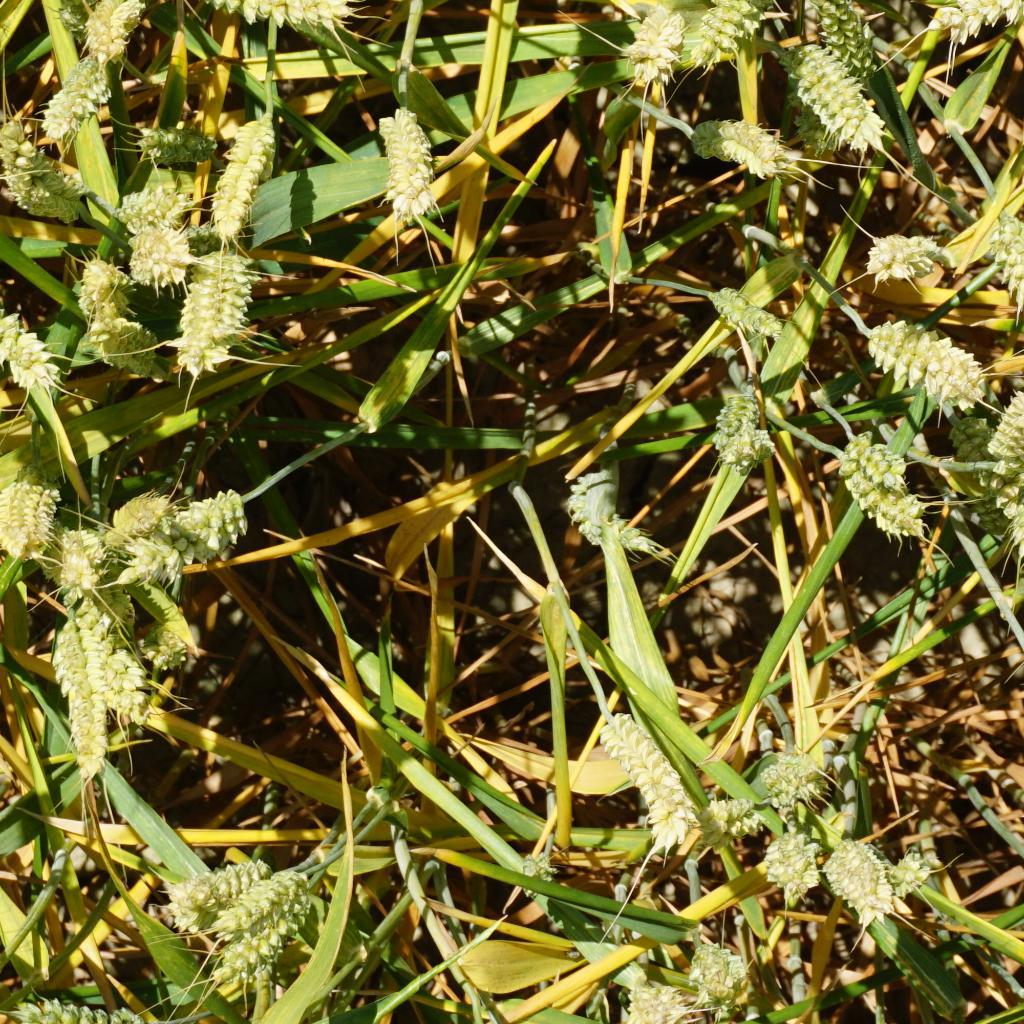0-0: (593, 706, 707, 862), (777, 40, 897, 161), (166, 249, 256, 387), (139, 485, 257, 579), (861, 327, 988, 414), (52, 615, 119, 779), (825, 445, 927, 547), (559, 470, 671, 562), (367, 97, 442, 226), (211, 117, 291, 233), (679, 111, 790, 181), (186, 0, 363, 43), (38, 46, 119, 139), (0, 134, 86, 220), (0, 475, 71, 566), (160, 860, 271, 918), (828, 840, 899, 925), (220, 899, 295, 978), (91, 623, 148, 725), (707, 392, 771, 481), (944, 414, 1011, 498), (624, 3, 692, 85), (854, 231, 946, 291), (82, 0, 153, 77), (694, 0, 780, 62), (764, 742, 845, 807), (16, 981, 137, 1024), (786, 0, 870, 61), (704, 284, 783, 348), (87, 309, 162, 374), (225, 868, 299, 927), (926, 0, 1024, 43), (0, 314, 53, 386), (852, 427, 912, 489), (51, 516, 101, 590), (121, 224, 185, 279), (764, 833, 818, 897), (622, 970, 686, 1024), (133, 120, 216, 160), (114, 185, 197, 224), (693, 944, 743, 1003), (706, 794, 762, 846), (999, 226, 1024, 340), (75, 258, 122, 314), (105, 493, 167, 528), (1001, 467, 1024, 558), (150, 615, 187, 667), (893, 852, 932, 901), (516, 855, 557, 897), (1004, 377, 1024, 459), (47, 0, 92, 35)
